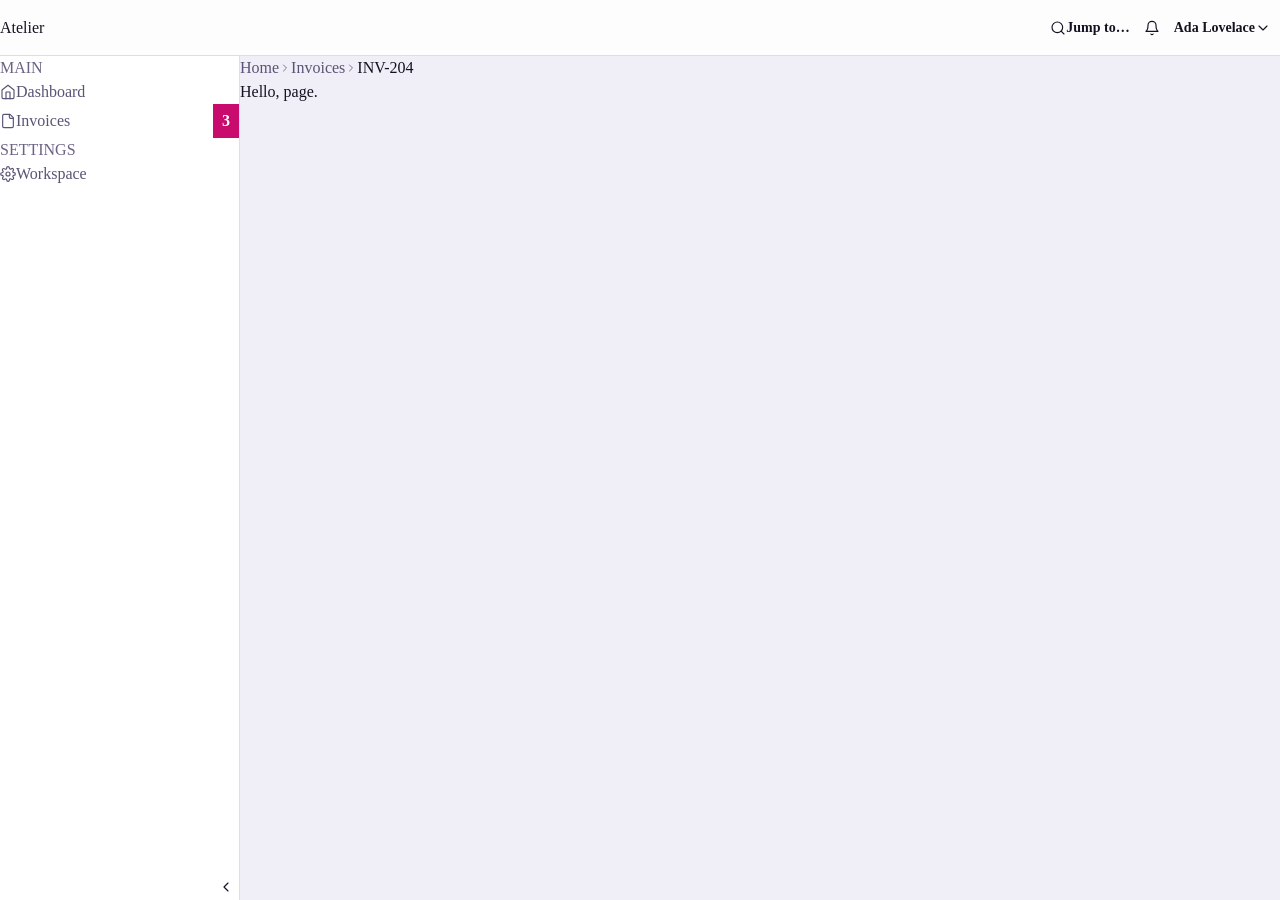
Scenario: AppShellComponent › an empty notification list shows the empty state
Click the button named "Notifications": (1152, 28) top-left (1139, 15), bottom-right (1165, 41)
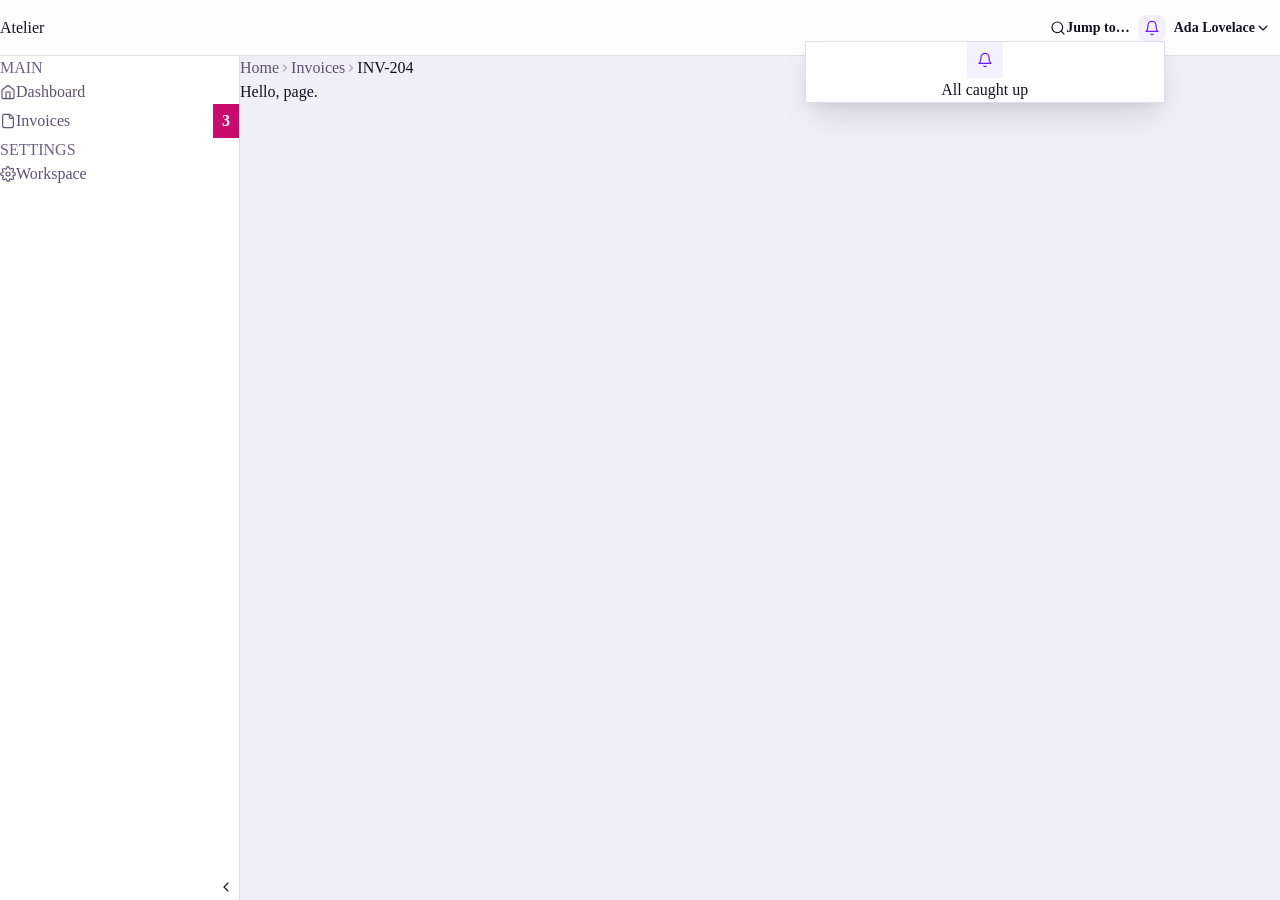
Check: the element showing "All caught up" is shown, box top-left (941, 42), bottom-right (1028, 98)
